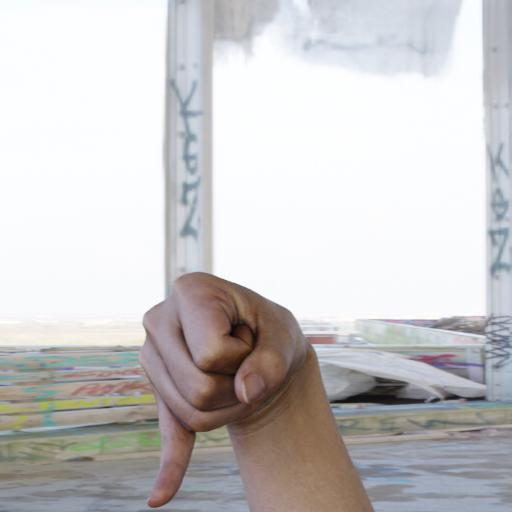J: (120, 261, 330, 512)
